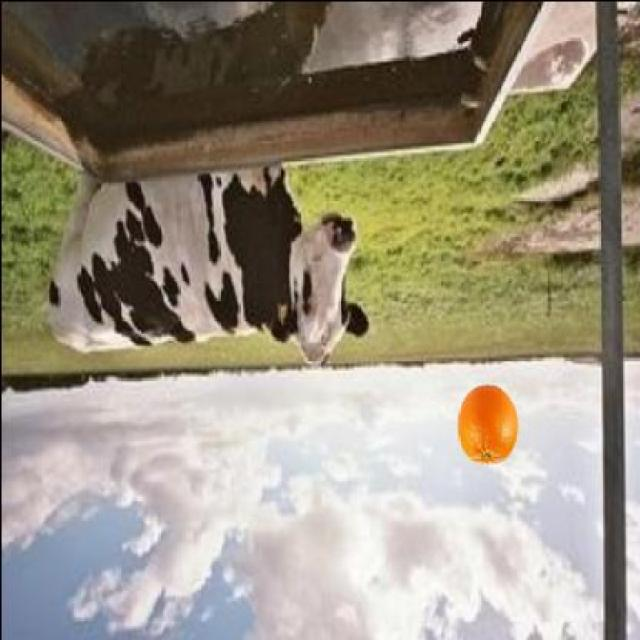Orange: (456, 382, 518, 464)
